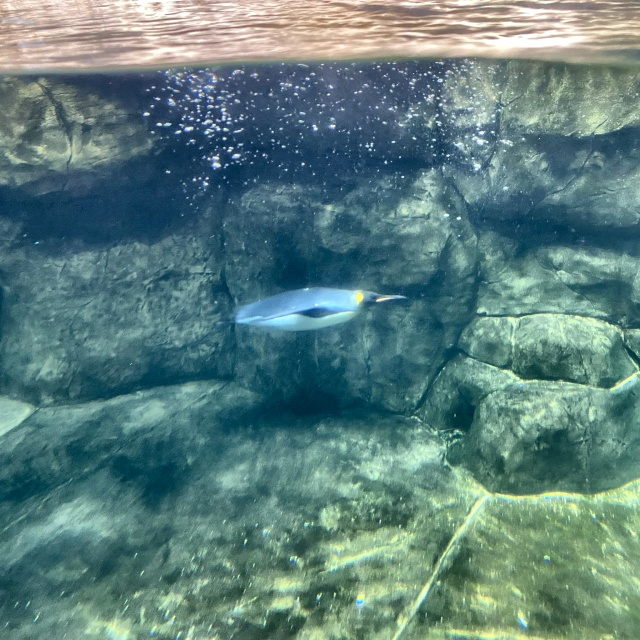penguin: (221, 288, 408, 330)
